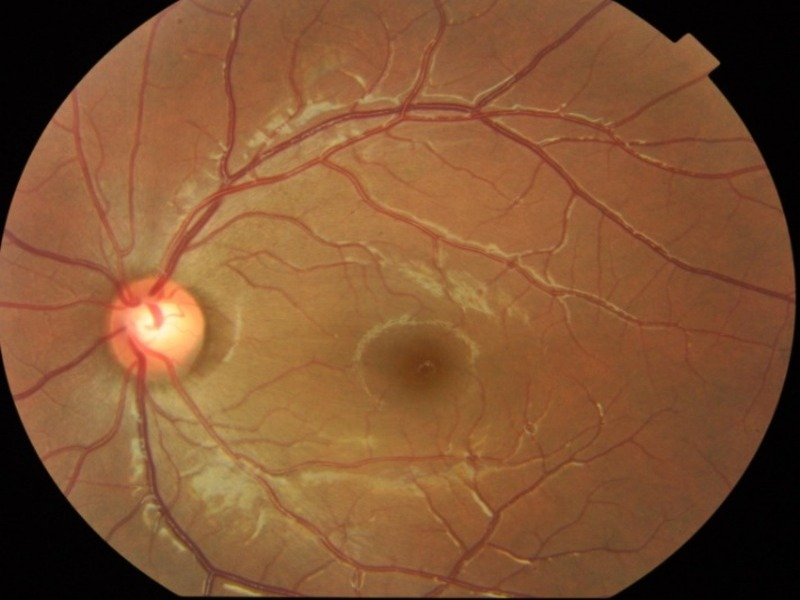Optic Cup: (136, 300, 180, 344)
Optic Disc: (109, 278, 205, 377)
